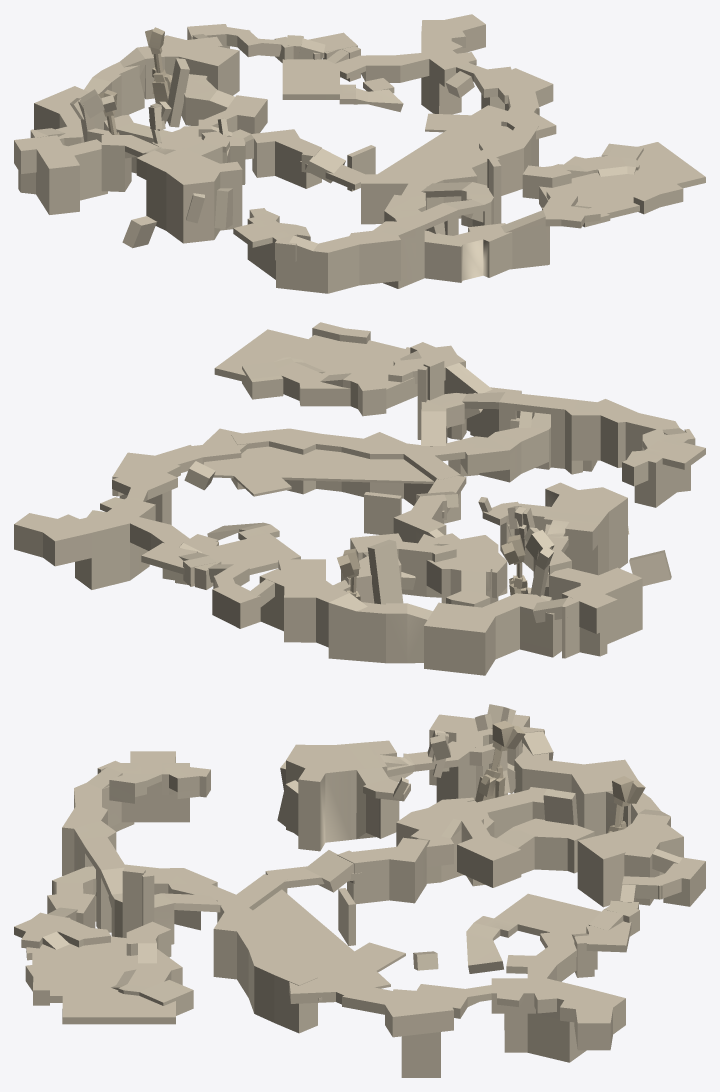
Rendered from _leg_FloorStuff.fbx.
3 views of the same model, one above another, from view 1: azimuth 30°, elevation 25°; view 2: azimuth 150°, elevation 25°; view 3: azimuth 270°, elevation 25° (orthographic). The views are drawn at different scales.
Visible parts, largest first — view 1: Floor_Entrance, Floor_Butterfly, FloorFaroff, Butter_Stalagnals, Floor_SideEntrance, EntranceRubble; view 2: Floor_Entrance, Floor_Butterfly, FloorFaroff, Butter_Stalagnals, Floor_SideEntrance, EntranceRubble; view 3: Floor_Entrance, Floor_Butterfly, FloorFaroff, Butter_Stalagnals, Floor_SideEntrance, EntranceRubble.
Part boxes in pixels (x1,y1,x2,y2): Floor_Entrance: (233,105,705,293); Floor_Butterfly: (14,35,375,243); FloorFaroff: (282,14,556,139); Butter_Stalagnals: (70,27,228,248); Floor_SideEntrance: (187,24,360,81); EntranceRubble: (425,156,501,234); Floor_Entrance: (203,322,705,523); Floor_Butterfly: (259,476,642,675); FloorFaroff: (14,428,300,589); Butter_Stalagnals: (333,497,671,604); Floor_SideEntrance: (141,540,274,628); EntranceRubble: (417,358,534,439); Floor_Entrance: (14,751,405,1033); Floor_Butterfly: (265,714,683,945); FloorFaroff: (289,893,625,1077); Butter_Stalagnals: (393,704,645,832); Floor_SideEntrance: (574,848,705,977); EntranceRubble: (95,867,154,937).
Bounding box in the file's own units: 9043 × 9145 × 2058.
